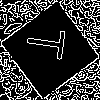T: (25, 25, 75, 62)
